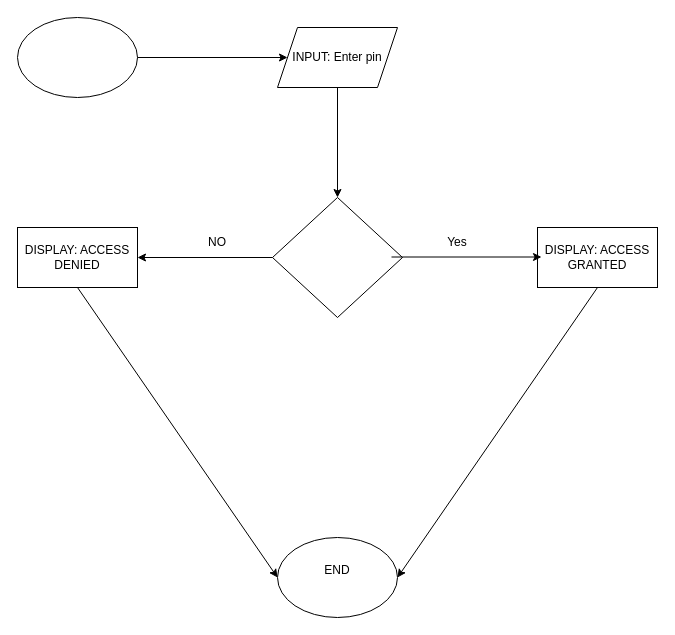
The diagram is 675 pixels wide and 635 high, and some of its shapes have lost their labels. The shapes that lost their labels are listed below. From the top down, each one's box as (x1, y1, x2, y2) in pixels, then its label:
(16, 16, 138, 98): BEGIN
(272, 196, 402, 318): CorrectPin
